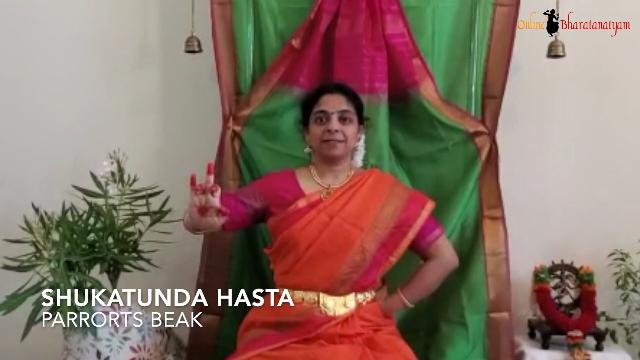shuktund: (167, 154, 240, 254)
